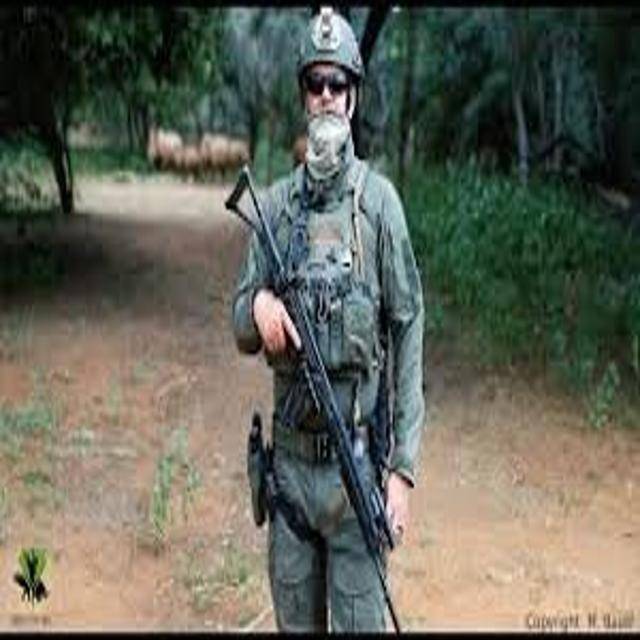gun: (192, 143, 433, 634)
ranger: (166, 6, 508, 633)
